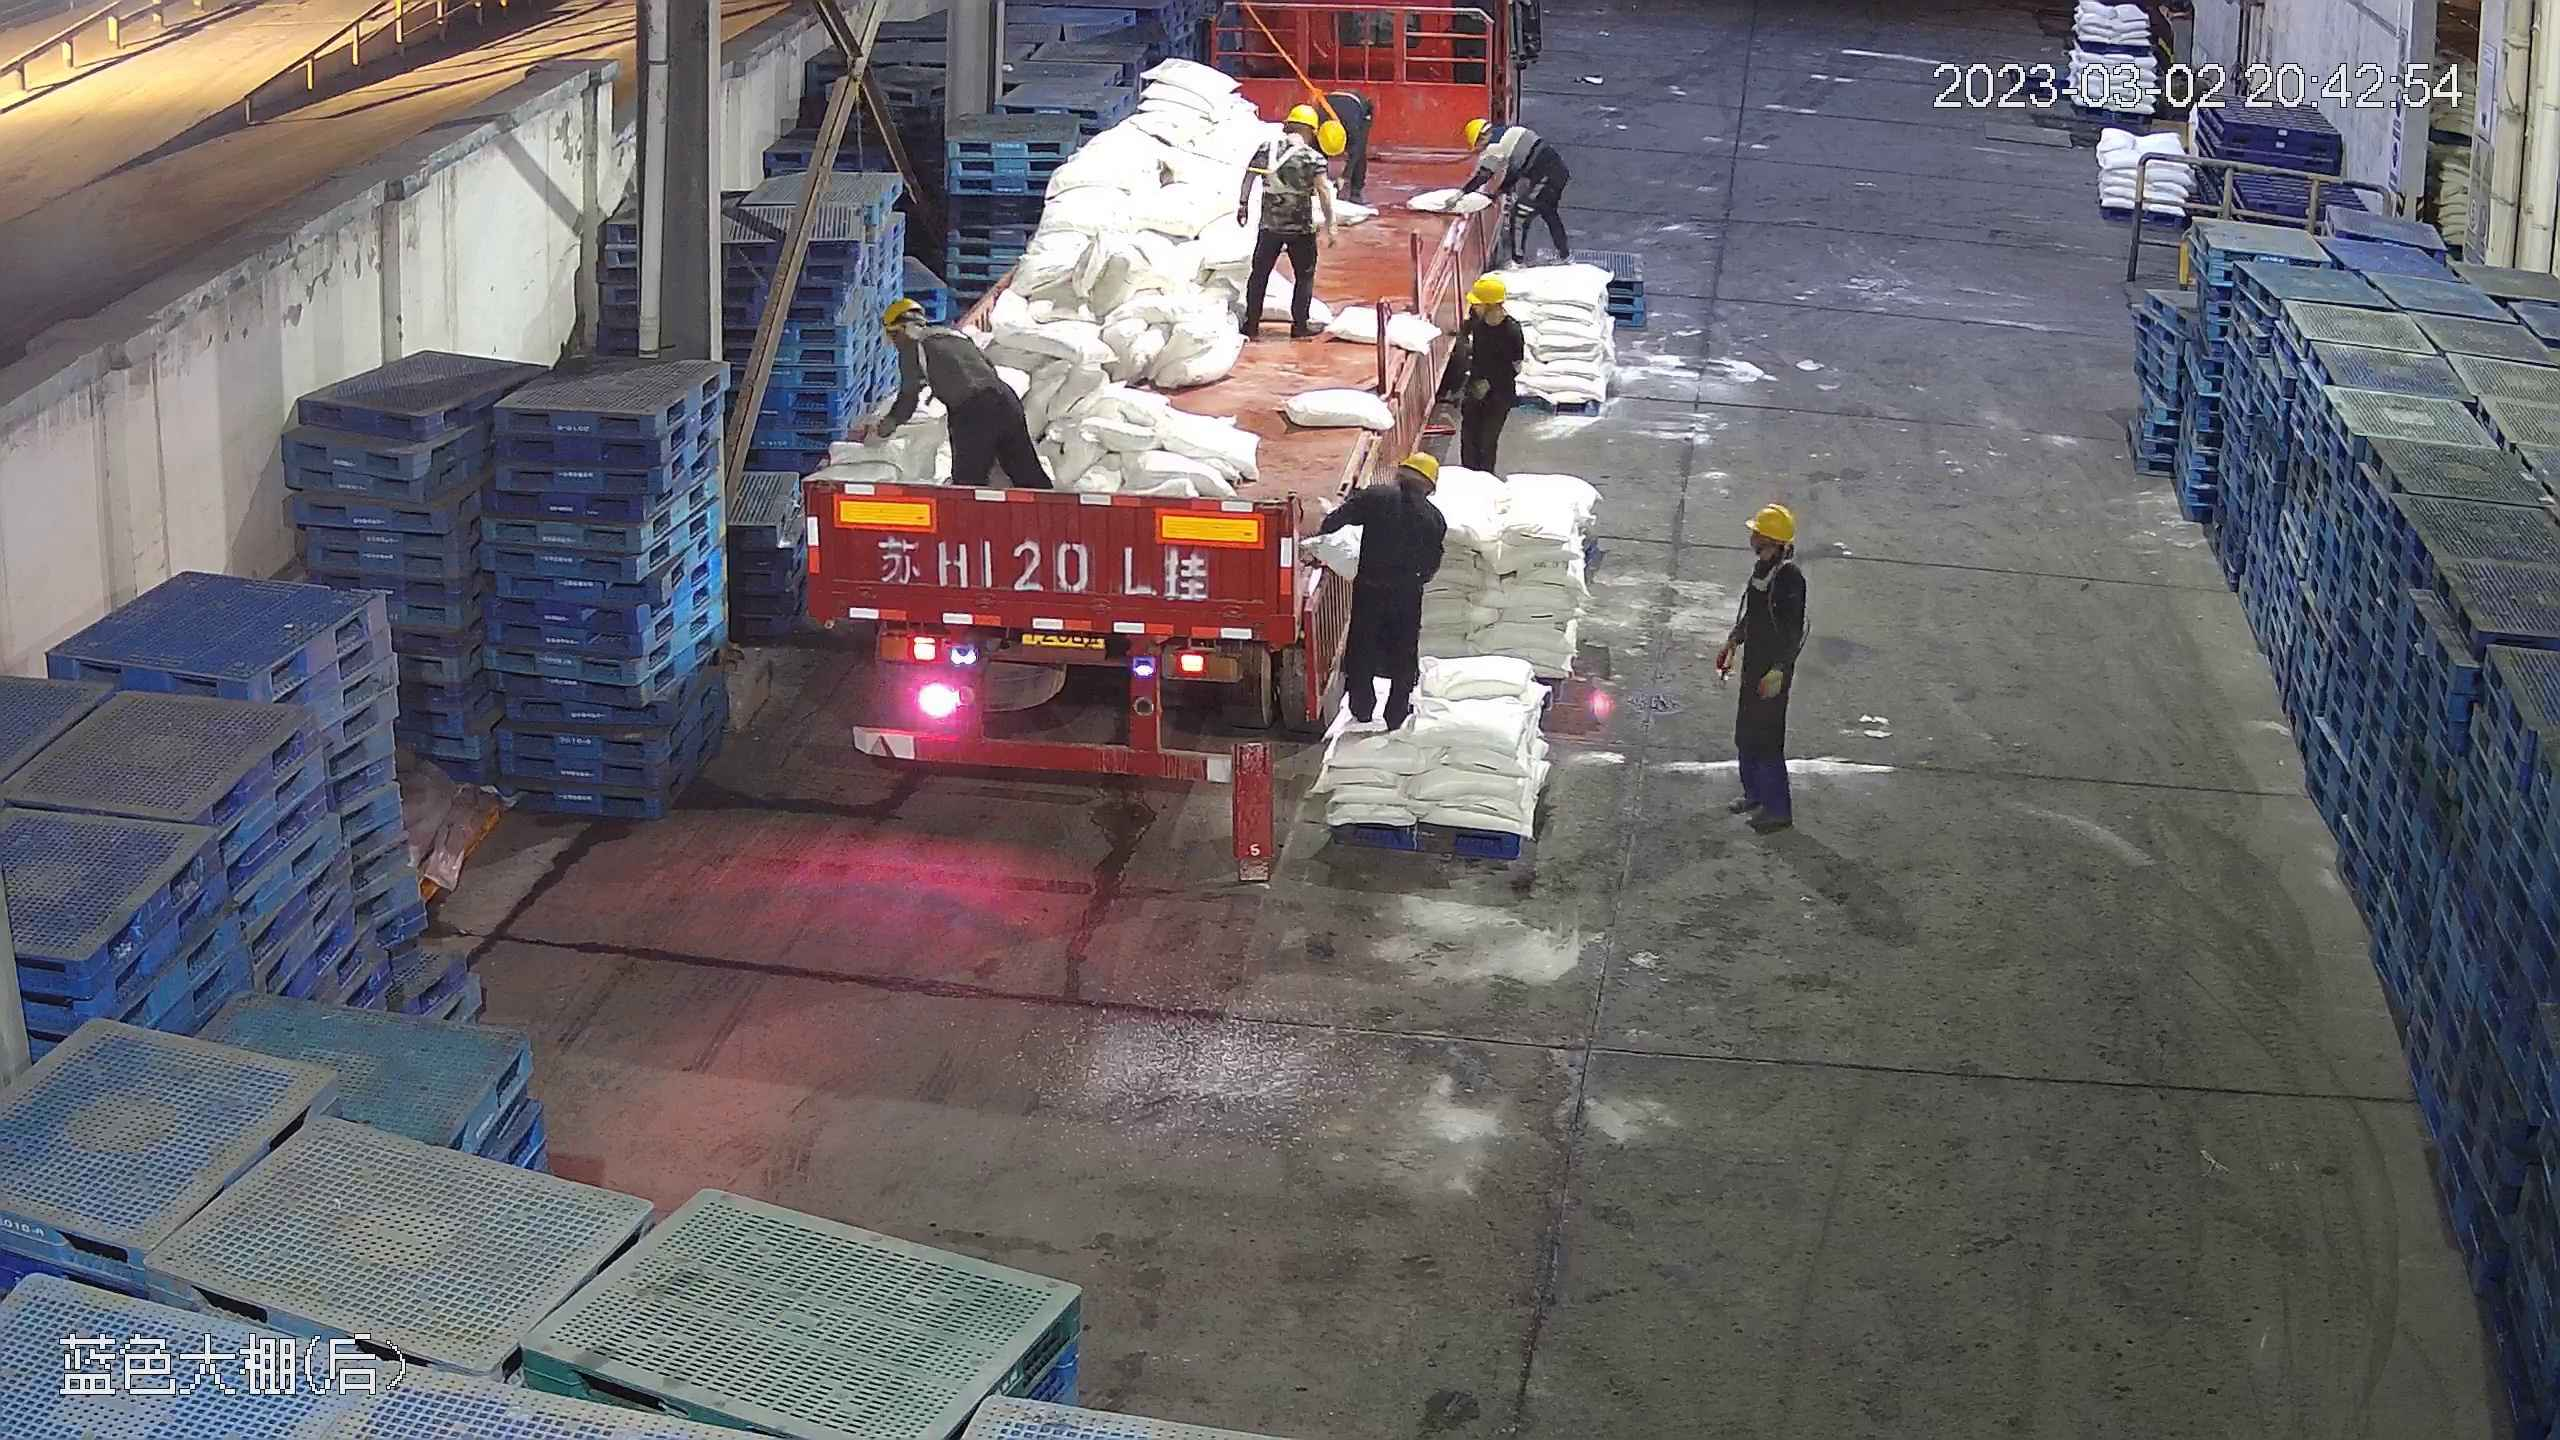belt: (919, 316, 985, 387), (1254, 140, 1313, 203), (1305, 85, 1360, 125), (1752, 548, 1789, 594)
head: (879, 297, 972, 386), (1361, 445, 1449, 538), (1734, 500, 1808, 607), (1247, 104, 1337, 182), (1453, 272, 1521, 349), (1461, 118, 1531, 174)
helmet: (1745, 501, 1798, 540), (880, 296, 924, 339), (1399, 448, 1447, 488), (1464, 274, 1508, 307), (1282, 103, 1318, 135), (1318, 117, 1347, 159), (1462, 117, 1489, 146)
people: (1317, 442, 1448, 735), (868, 294, 1048, 491), (1718, 502, 1808, 832), (1238, 104, 1339, 336), (1457, 115, 1573, 276), (1438, 272, 1522, 476)
truck: (827, 28, 1543, 796)
